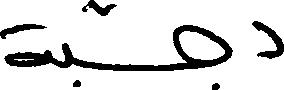X: (173, 20, 229, 89), (0, 19, 46, 71), (255, 16, 283, 63), (63, 38, 71, 72)
